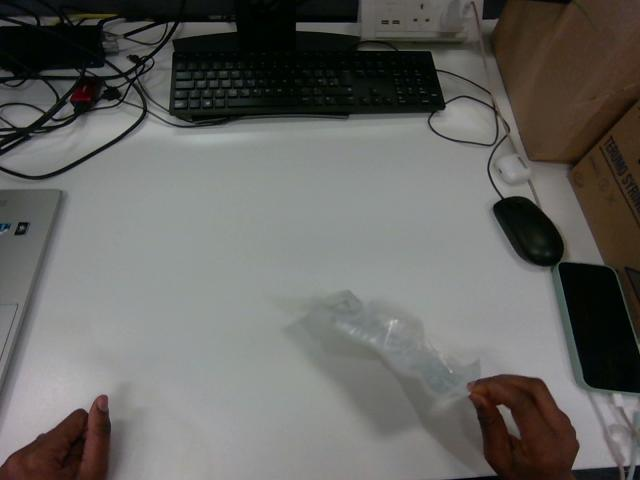gallipot: (323, 291, 479, 396)
